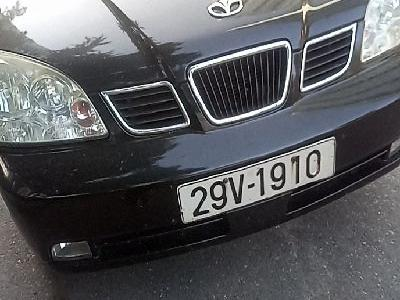lisence: (177, 137, 337, 226)
